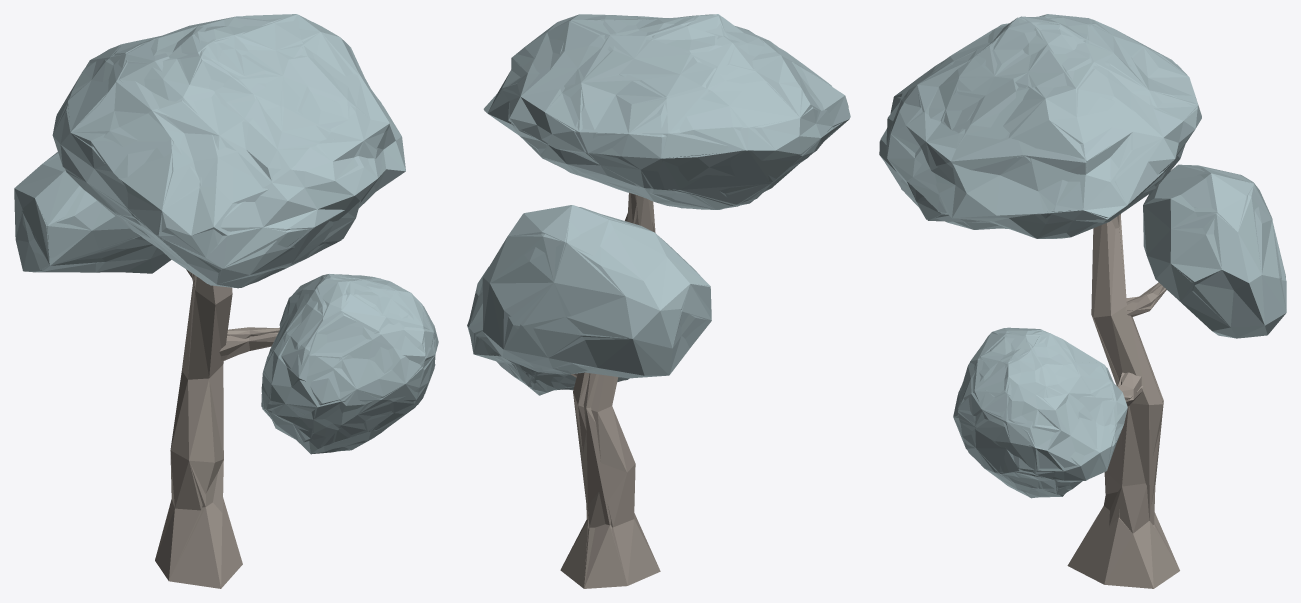
File: Tree_04.fbx
The picture shows the model from 3 angles, left to right: view 1: azimuth 30°, elevation 25°; view 2: azimuth 150°, elevation 25°; view 3: azimuth 270°, elevation 25°; orthographic projection. The views are drawn at different scales.
Parts seen in each view (by area): view 1: Tree_04_0 L, Tree_04_1 L; view 2: Tree_04_0 L, Tree_04_1 L; view 3: Tree_04_0 L, Tree_04_1 L.
Part boxes in pixels (left/top/right/bottom): Tree_04_0 L: left=14, top=14, right=438, bottom=588; Tree_04_1 L: left=16, top=14, right=437, bottom=588; Tree_04_0 L: left=467, top=14, right=849, bottom=587; Tree_04_1 L: left=470, top=14, right=850, bottom=588; Tree_04_0 L: left=879, top=16, right=1286, bottom=588; Tree_04_1 L: left=879, top=14, right=1286, bottom=588.
Size of the model in its own units: 1156 by 1747 by 1221.
